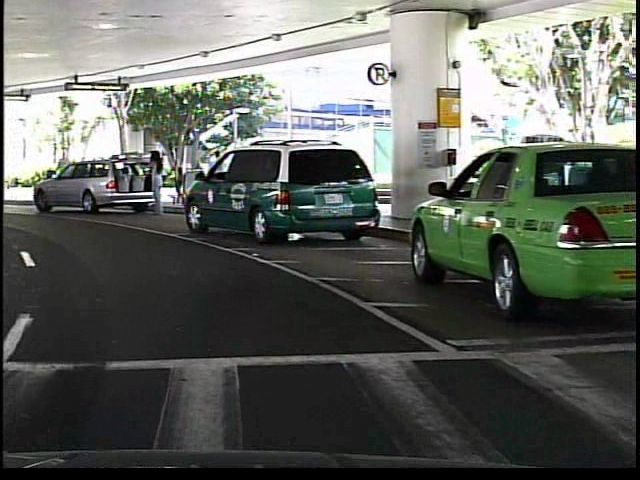person: (144, 145, 164, 222), (48, 148, 73, 200), (163, 154, 184, 212)
